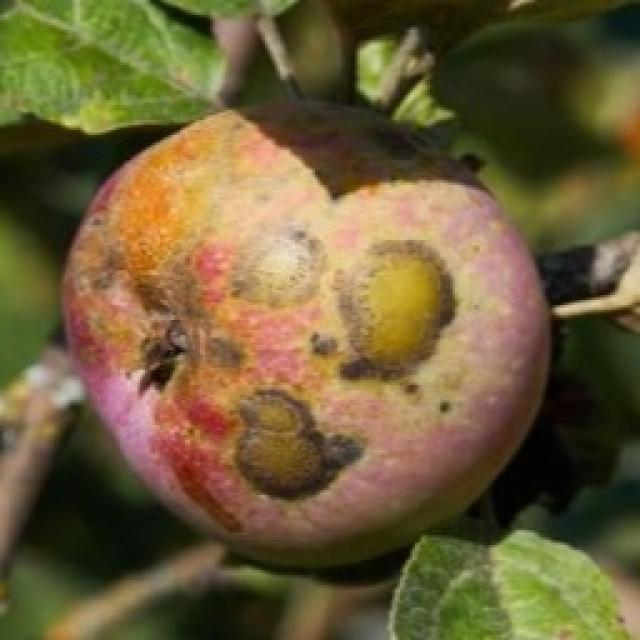defective: (58, 95, 555, 570)
